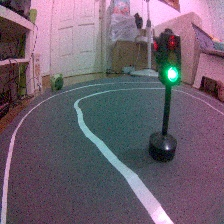green: (148, 26, 184, 163)
